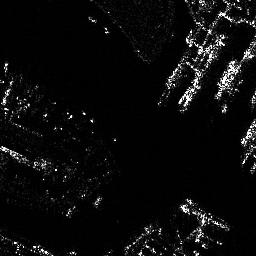ship: (178, 199, 230, 232)
